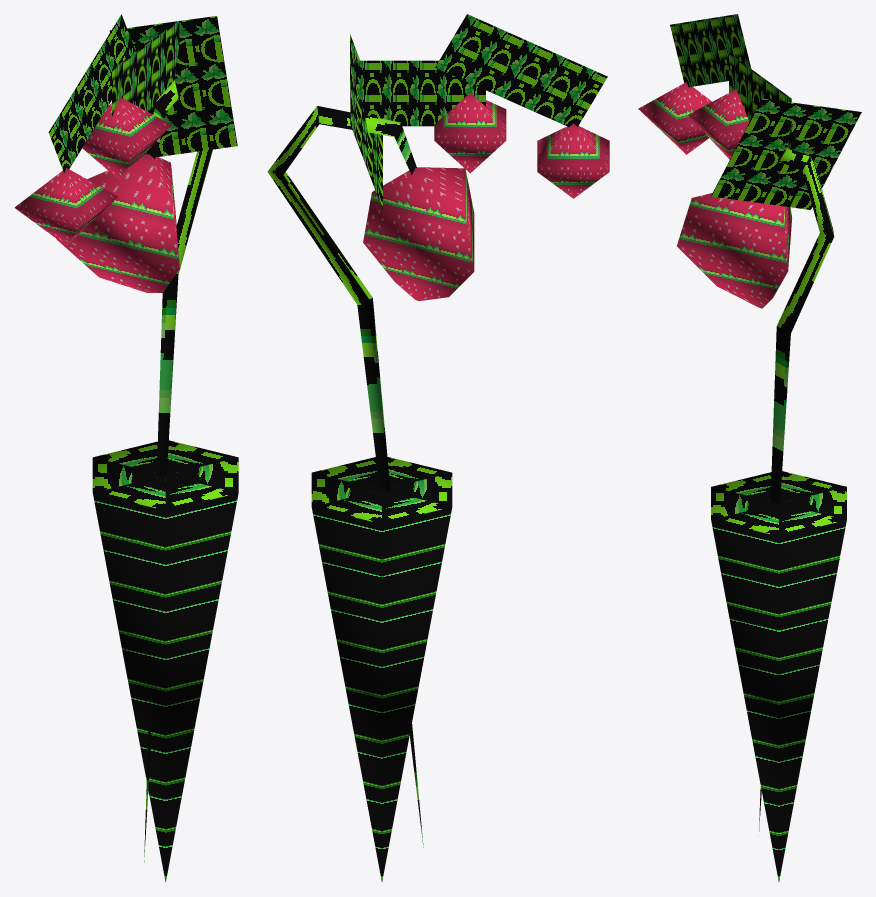
The model's file is 3698kg_it_lig.gltf.
3 views of the same model, side by side, from view 1: azimuth 30°, elevation 25°; view 2: azimuth 150°, elevation 25°; view 3: azimuth 270°, elevation 25° (orthographic). The views are drawn at different scales.
Parts seen in each view (by area): view 1: 3698kg_it_lig; view 2: 3698kg_it_lig; view 3: 3698kg_it_lig.
Part boxes in pixels (bbox=[...]): 3698kg_it_lig: bbox=[14, 14, 238, 881]; 3698kg_it_lig: bbox=[267, 14, 609, 881]; 3698kg_it_lig: bbox=[638, 14, 861, 881].
Bounding box in the file's own units: 0.7195 × 2.19 × 0.5298.
3 materials, 3 textured.
